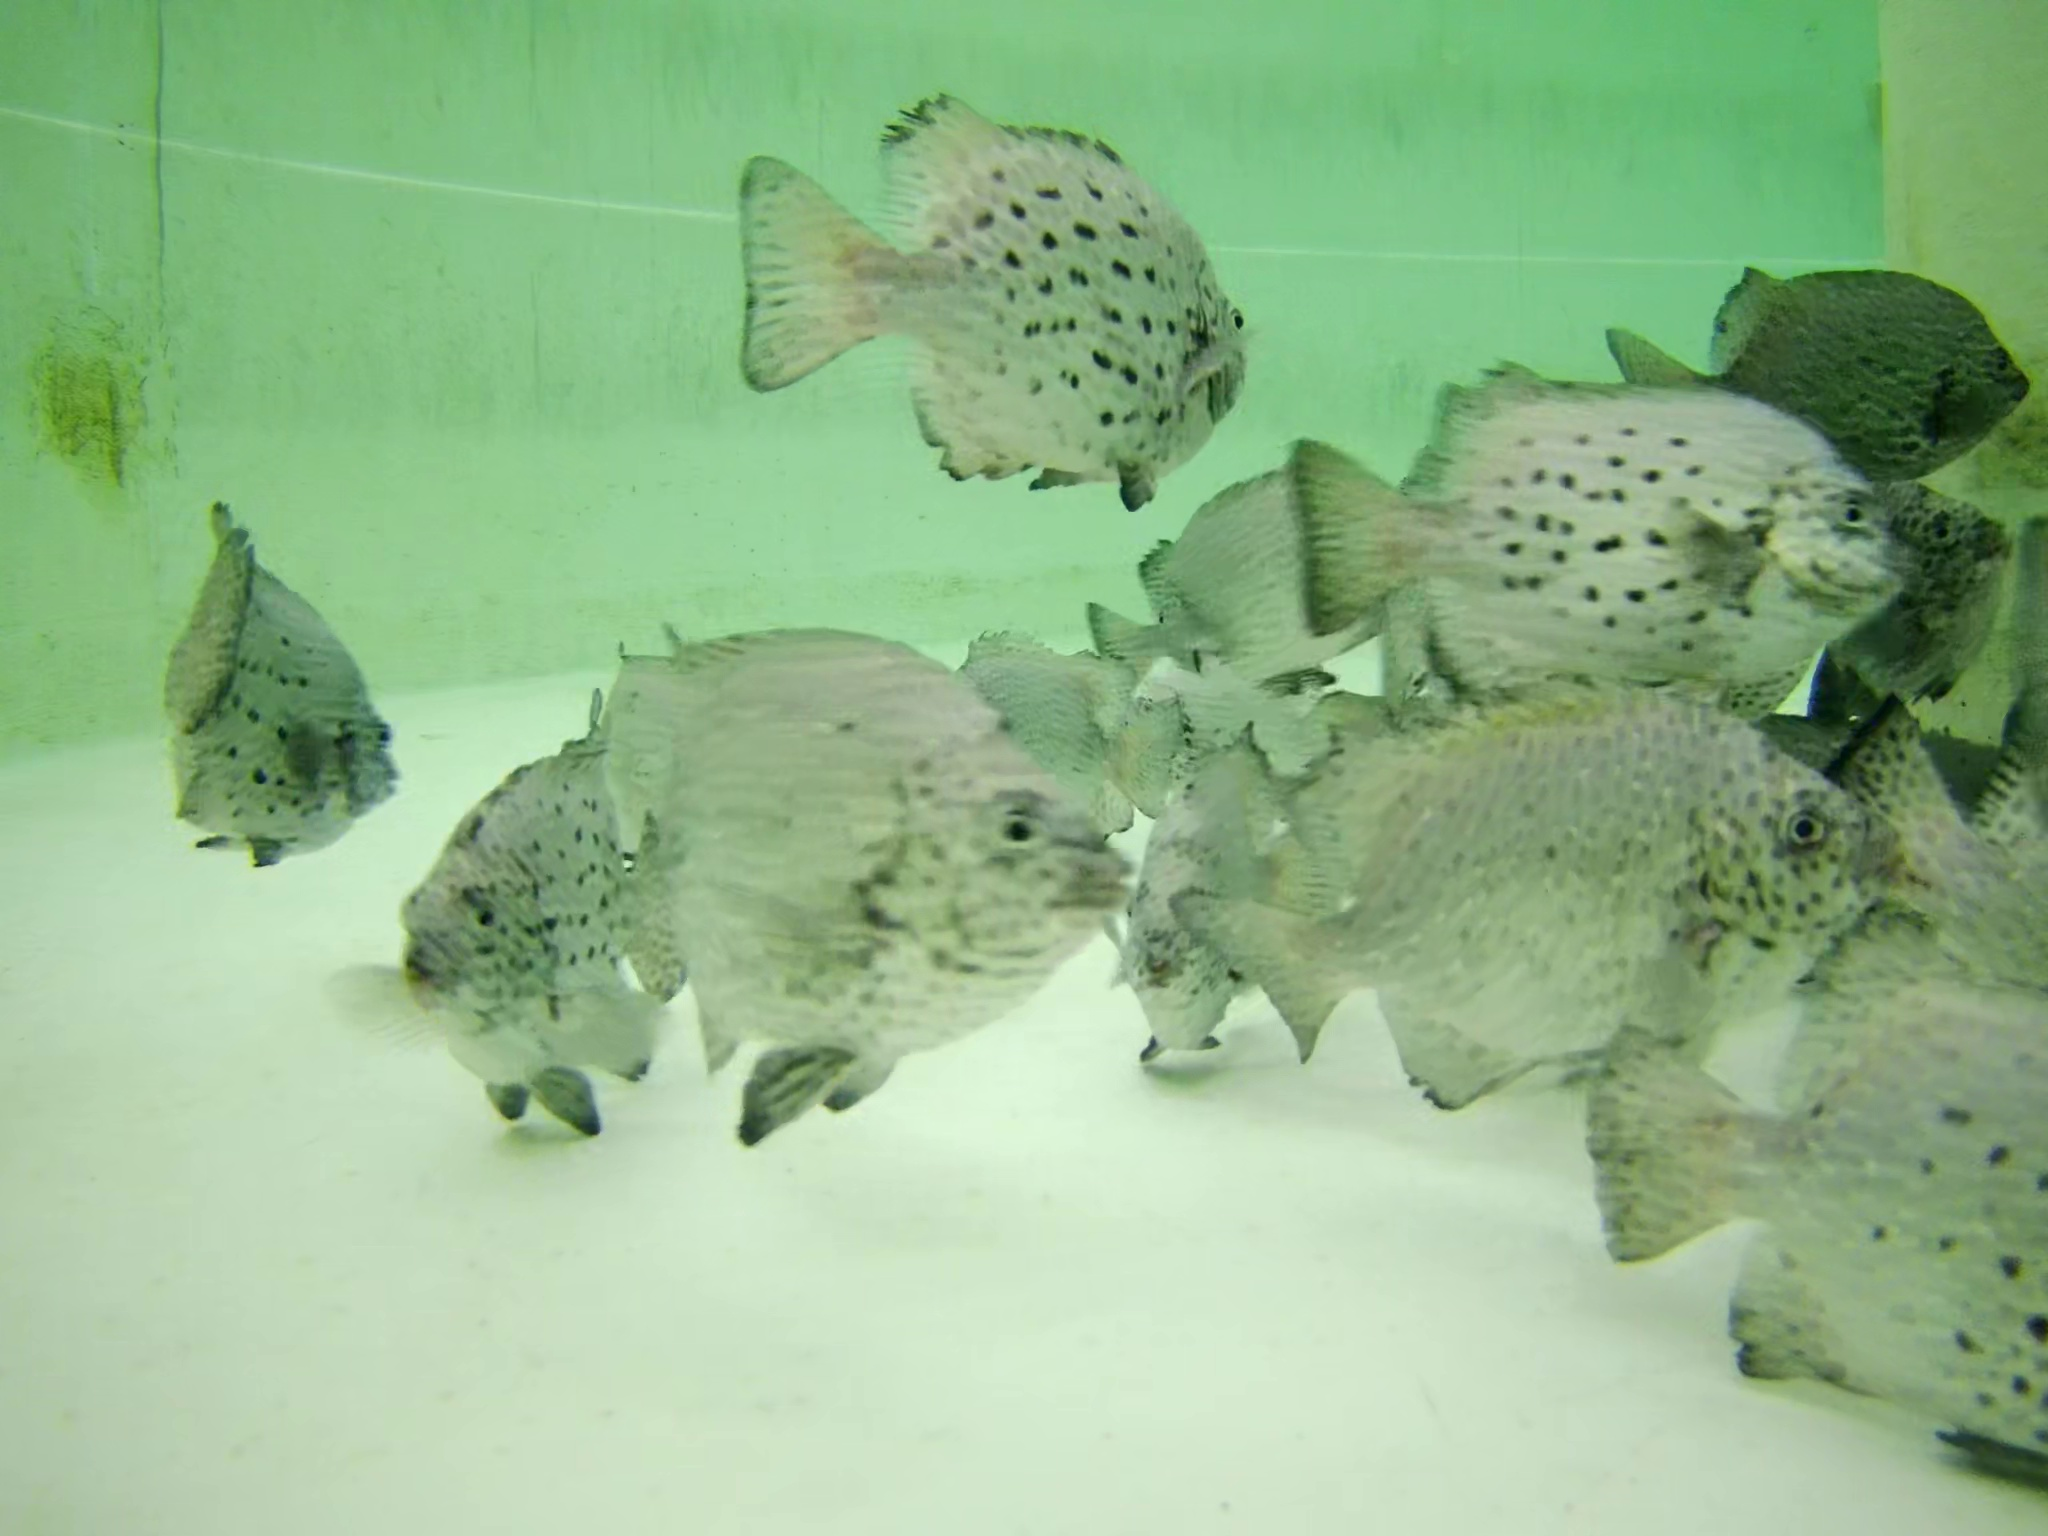fish: (605, 618, 1134, 1150), (1197, 702, 1892, 1070), (1576, 916, 2048, 1444), (729, 97, 1247, 490), (1303, 373, 1887, 697), (390, 731, 681, 1162), (160, 505, 402, 855), (1603, 260, 2019, 453), (1092, 452, 1387, 682), (1803, 708, 2048, 984), (955, 618, 1185, 868), (1808, 479, 2013, 710), (1130, 724, 1264, 1066)
